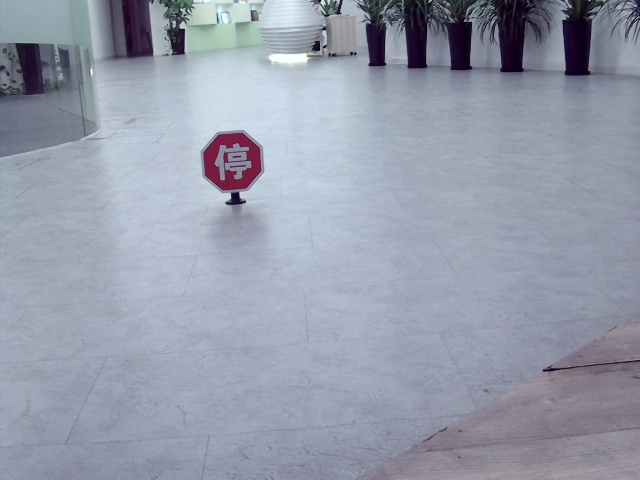stop: (212, 140, 250, 181)
